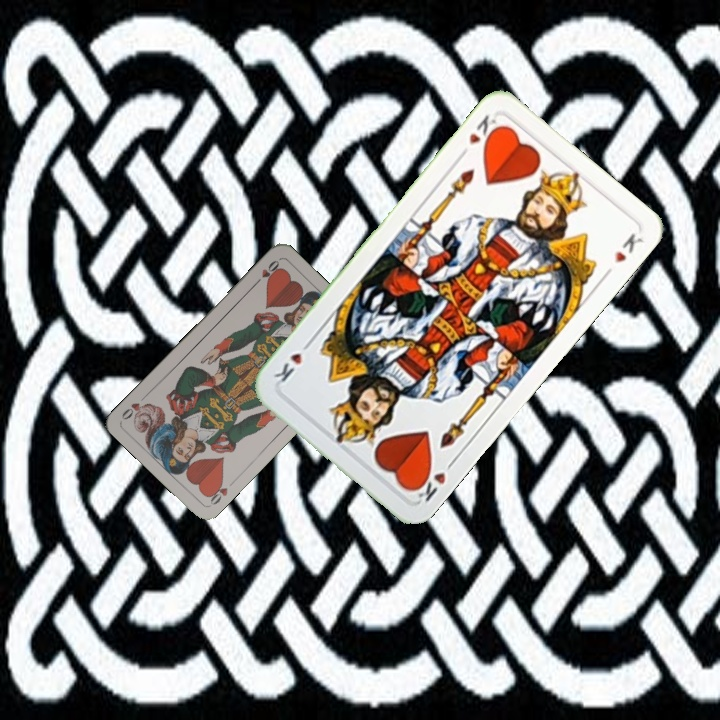HK: (455, 110, 505, 161), (407, 455, 458, 505)
HO: (203, 476, 238, 508), (250, 256, 282, 288)
